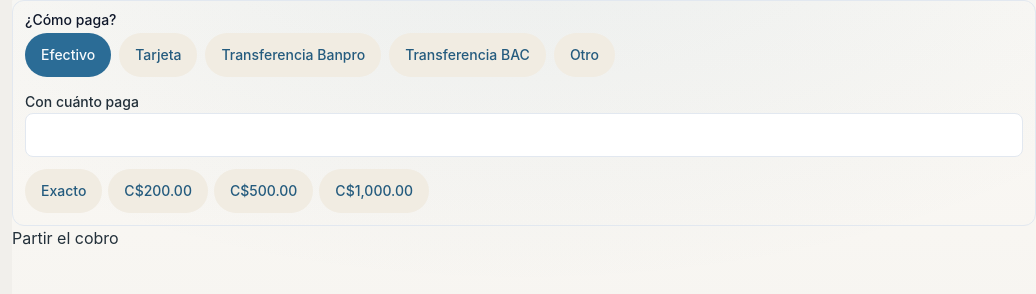
Test: PosPaymentRows › mientras escribe el efectivo, el vuelto se ve en vivo
The image size is (1036, 294).
Expected: the text "Vuelto" is not shown
Type "200" into the number field labelled "Con cuánto paga" at (524, 135), box [25,113,1023,157]
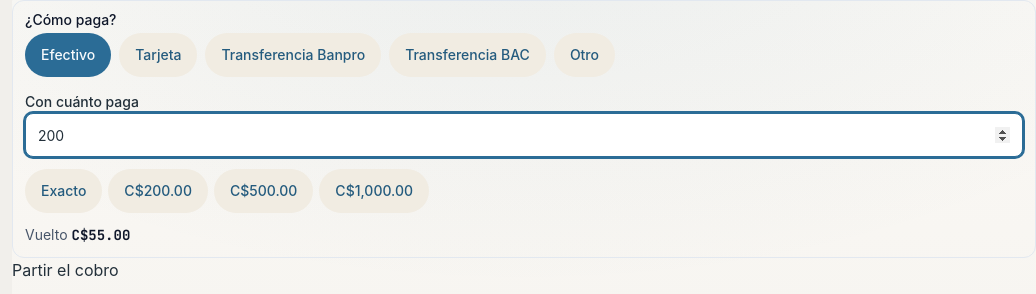
Expected: the text "Vuelto C$55.00" is shown, [25,226,130,244]
